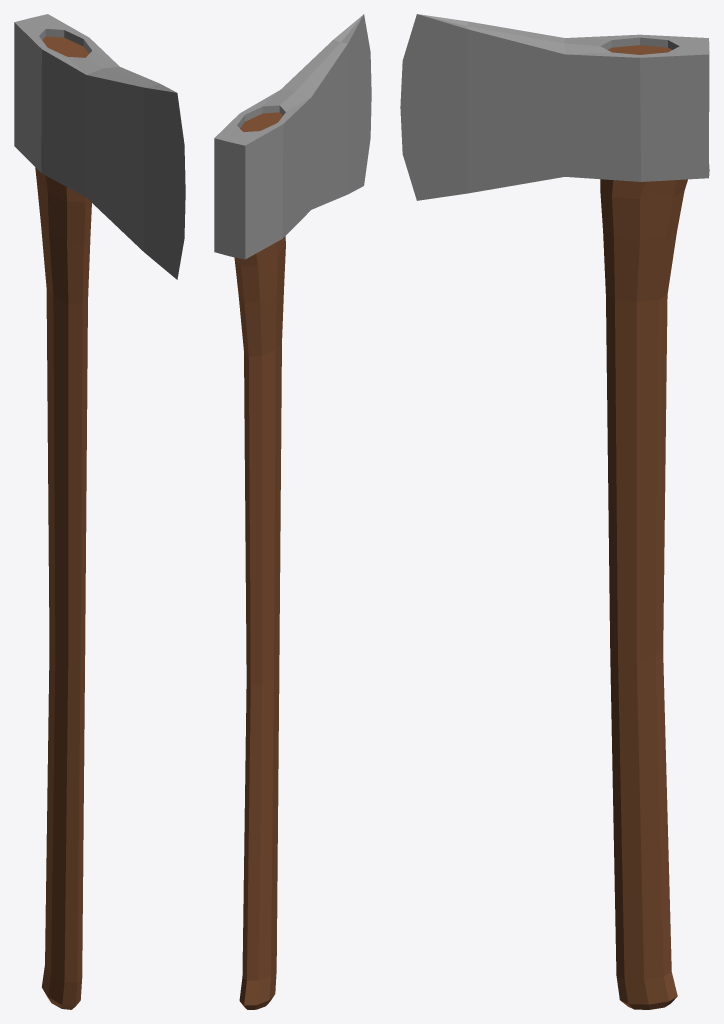
Rendered from axe02.gltf.
3 views of the same model, side by side, from view 1: azimuth 30°, elevation 25°; view 2: azimuth 150°, elevation 25°; view 3: azimuth 270°, elevation 25° (orthographic). The views are drawn at different scales.
Parts seen in each view (by area): view 1: Cylinder.001; view 2: Cylinder.001; view 3: Cylinder.001.
Boxes of the visible parts, x1,y1,x2,y2 form: Cylinder.001: [14, 14, 185, 1009]; Cylinder.001: [214, 14, 371, 1009]; Cylinder.001: [400, 14, 709, 1009].
Size of the model in its own units: 0.0445 by 0.8896 by 0.2511.
Materials: 1 (1 with a texture image).
